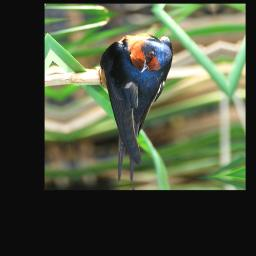Swallow: (89, 28, 199, 184)
